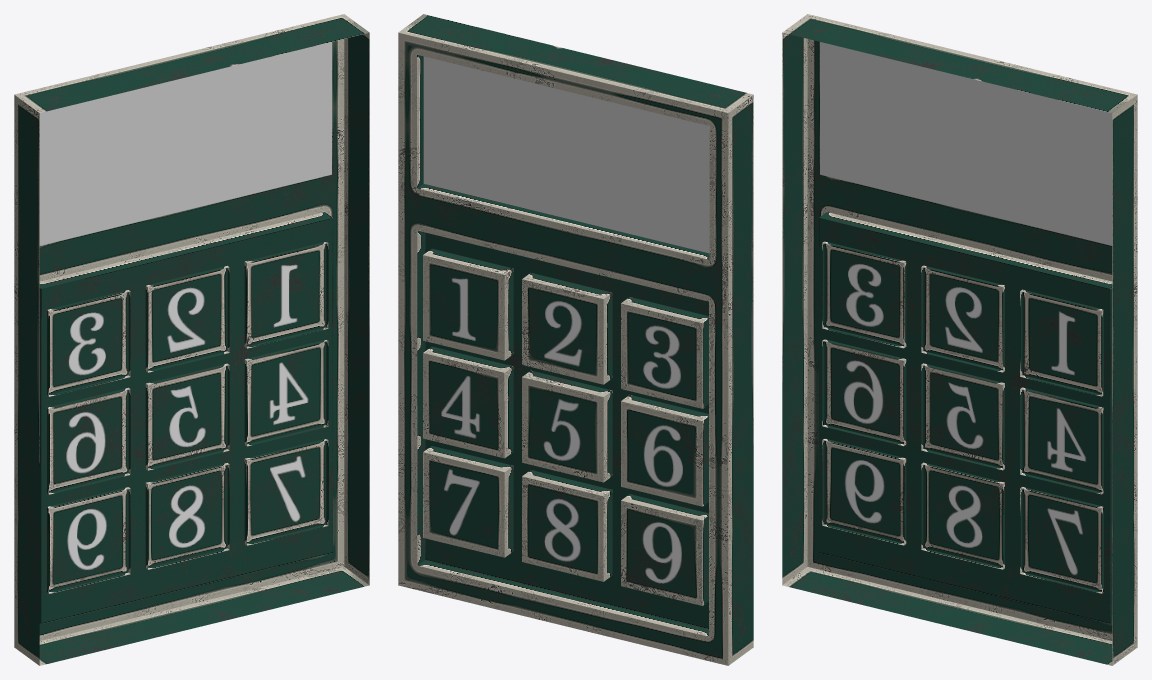
The model's file is Keypad.fbx.
3 renders of one model, left to right at view 1: azimuth 30°, elevation 25°; view 2: azimuth 150°, elevation 25°; view 3: azimuth 330°, elevation 25°, orthographic.
Visible parts, largest first — view 1: Keypad; view 2: Keypad; view 3: Keypad.
Part boxes in pixels (left/top/right/bottom): Keypad: left=14, top=14, right=369, bottom=665; Keypad: left=398, top=14, right=753, bottom=665; Keypad: left=782, top=14, right=1137, bottom=665.
Size of the model in its own units: 10 by 16 by 1.39.
